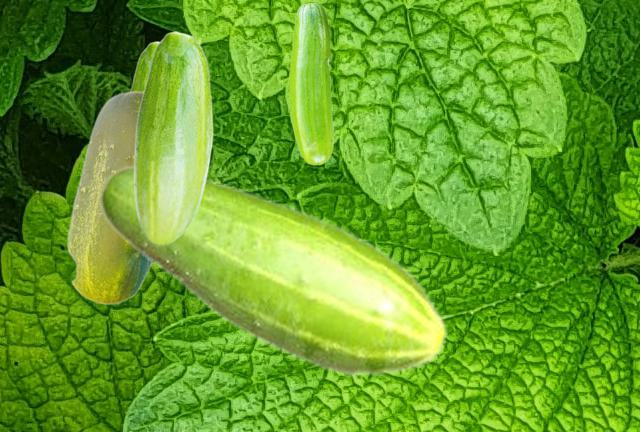cucumber: (98, 163, 448, 378), (66, 90, 152, 304), (133, 31, 212, 245), (289, 2, 332, 164), (130, 41, 158, 90)
